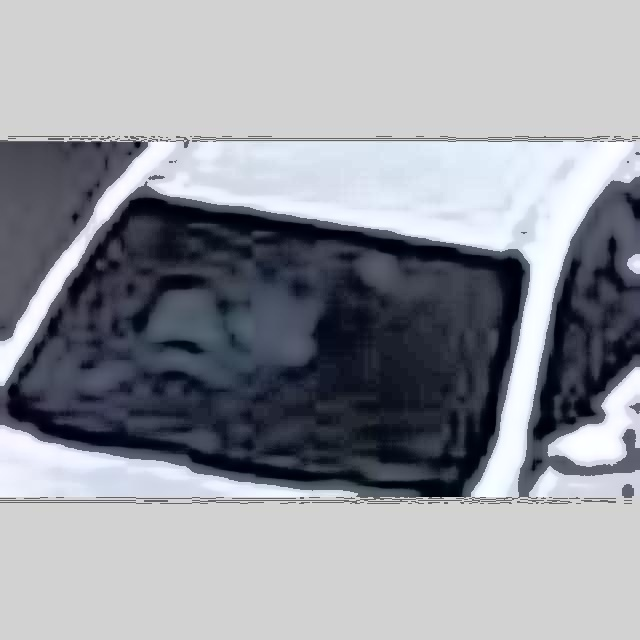pakai: (134, 237, 348, 411)
